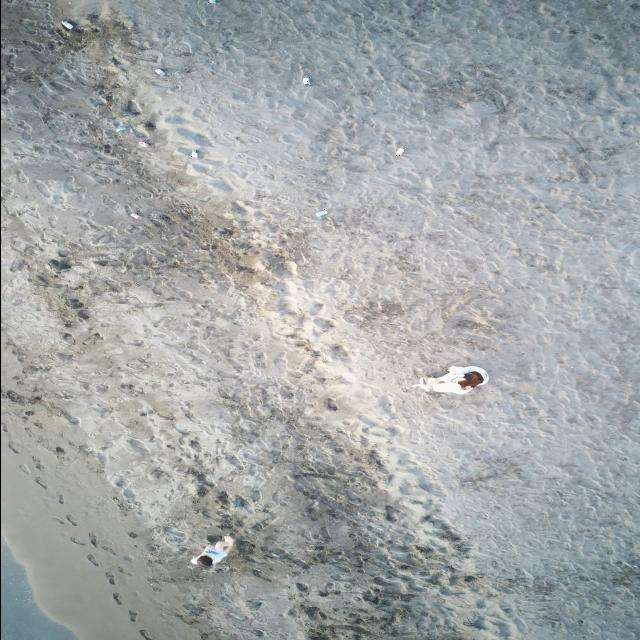Garbage: (412, 366, 487, 392), (192, 535, 233, 566), (48, 259, 71, 271), (125, 100, 140, 114), (60, 19, 75, 30), (327, 397, 336, 409), (144, 121, 156, 128), (155, 68, 166, 75), (316, 208, 327, 215), (396, 147, 404, 156), (116, 123, 125, 131), (138, 140, 148, 147), (303, 75, 310, 84), (129, 212, 139, 218), (190, 150, 196, 158), (207, 0, 218, 3)
